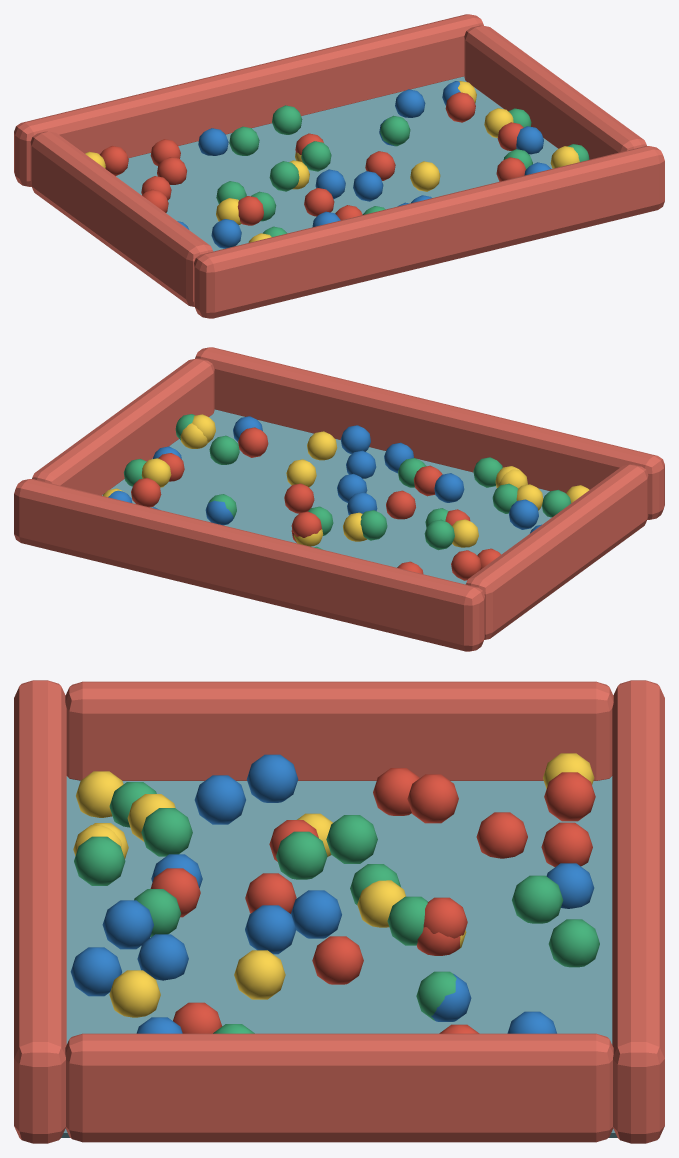
File: playroom-ball-pit.glb
3 renders of one model, top to bottom at view 1: azimuth 30°, elevation 25°; view 2: azimuth 150°, elevation 25°; view 3: azimuth 270°, elevation 25°, orthographic. The views are drawn at different scales.
Visible parts, largest first — view 1: Padded pit rim, Padded pit rim.001, Pit floor, Padded pit rim.002, Padded pit rim.003, Ball batch 1, Ball batch 3, Ball batch 4, Ball batch 2; view 2: Padded pit rim.001, Padded pit rim, Pit floor, Padded pit rim.002, Padded pit rim.003, Ball batch 3, Ball batch 1, Ball batch 4, Ball batch 2; view 3: Pit floor, Padded pit rim.003, Padded pit rim.002, Padded pit rim, Padded pit rim.001, Ball batch 1, Ball batch 4, Ball batch 3, Ball batch 2.
Part boxes in pixels (x1,y1,x2,y2): Padded pit rim: [194, 146, 664, 318]; Padded pit rim.001: [14, 14, 483, 186]; Pit floor: [116, 76, 557, 251]; Padded pit rim.002: [30, 131, 213, 306]; Padded pit rim.003: [464, 25, 646, 159]; Ball batch 1: [100, 92, 525, 225]; Ball batch 3: [216, 105, 589, 236]; Ball batch 4: [177, 81, 550, 248]; Ball batch 2: [85, 81, 579, 242]; Padded pit rim.001: [14, 479, 484, 651]; Padded pit rim: [195, 347, 664, 519]; Pit floor: [102, 409, 551, 584]; Padded pit rim.002: [465, 464, 648, 639]; Padded pit rim.003: [32, 358, 214, 495]; Ball batch 3: [123, 414, 571, 550]; Ball batch 1: [131, 427, 500, 580]; Ball batch 4: [108, 416, 541, 533]; Ball batch 2: [103, 414, 589, 547]; Pit floor: [61, 776, 617, 1137]; Padded pit rim.003: [65, 1033, 613, 1142]; Padded pit rim.002: [65, 681, 613, 780]; Padded pit rim: [14, 680, 66, 1143]; Padded pit rim.001: [612, 680, 664, 1143]; Ball batch 1: [150, 768, 595, 1033]; Ball batch 4: [70, 754, 594, 1033]; Ball batch 3: [74, 782, 599, 1033]; Ball batch 2: [73, 753, 594, 1017].
Size of the model in its own units: 7.6 by 0.955 by 5.55.
